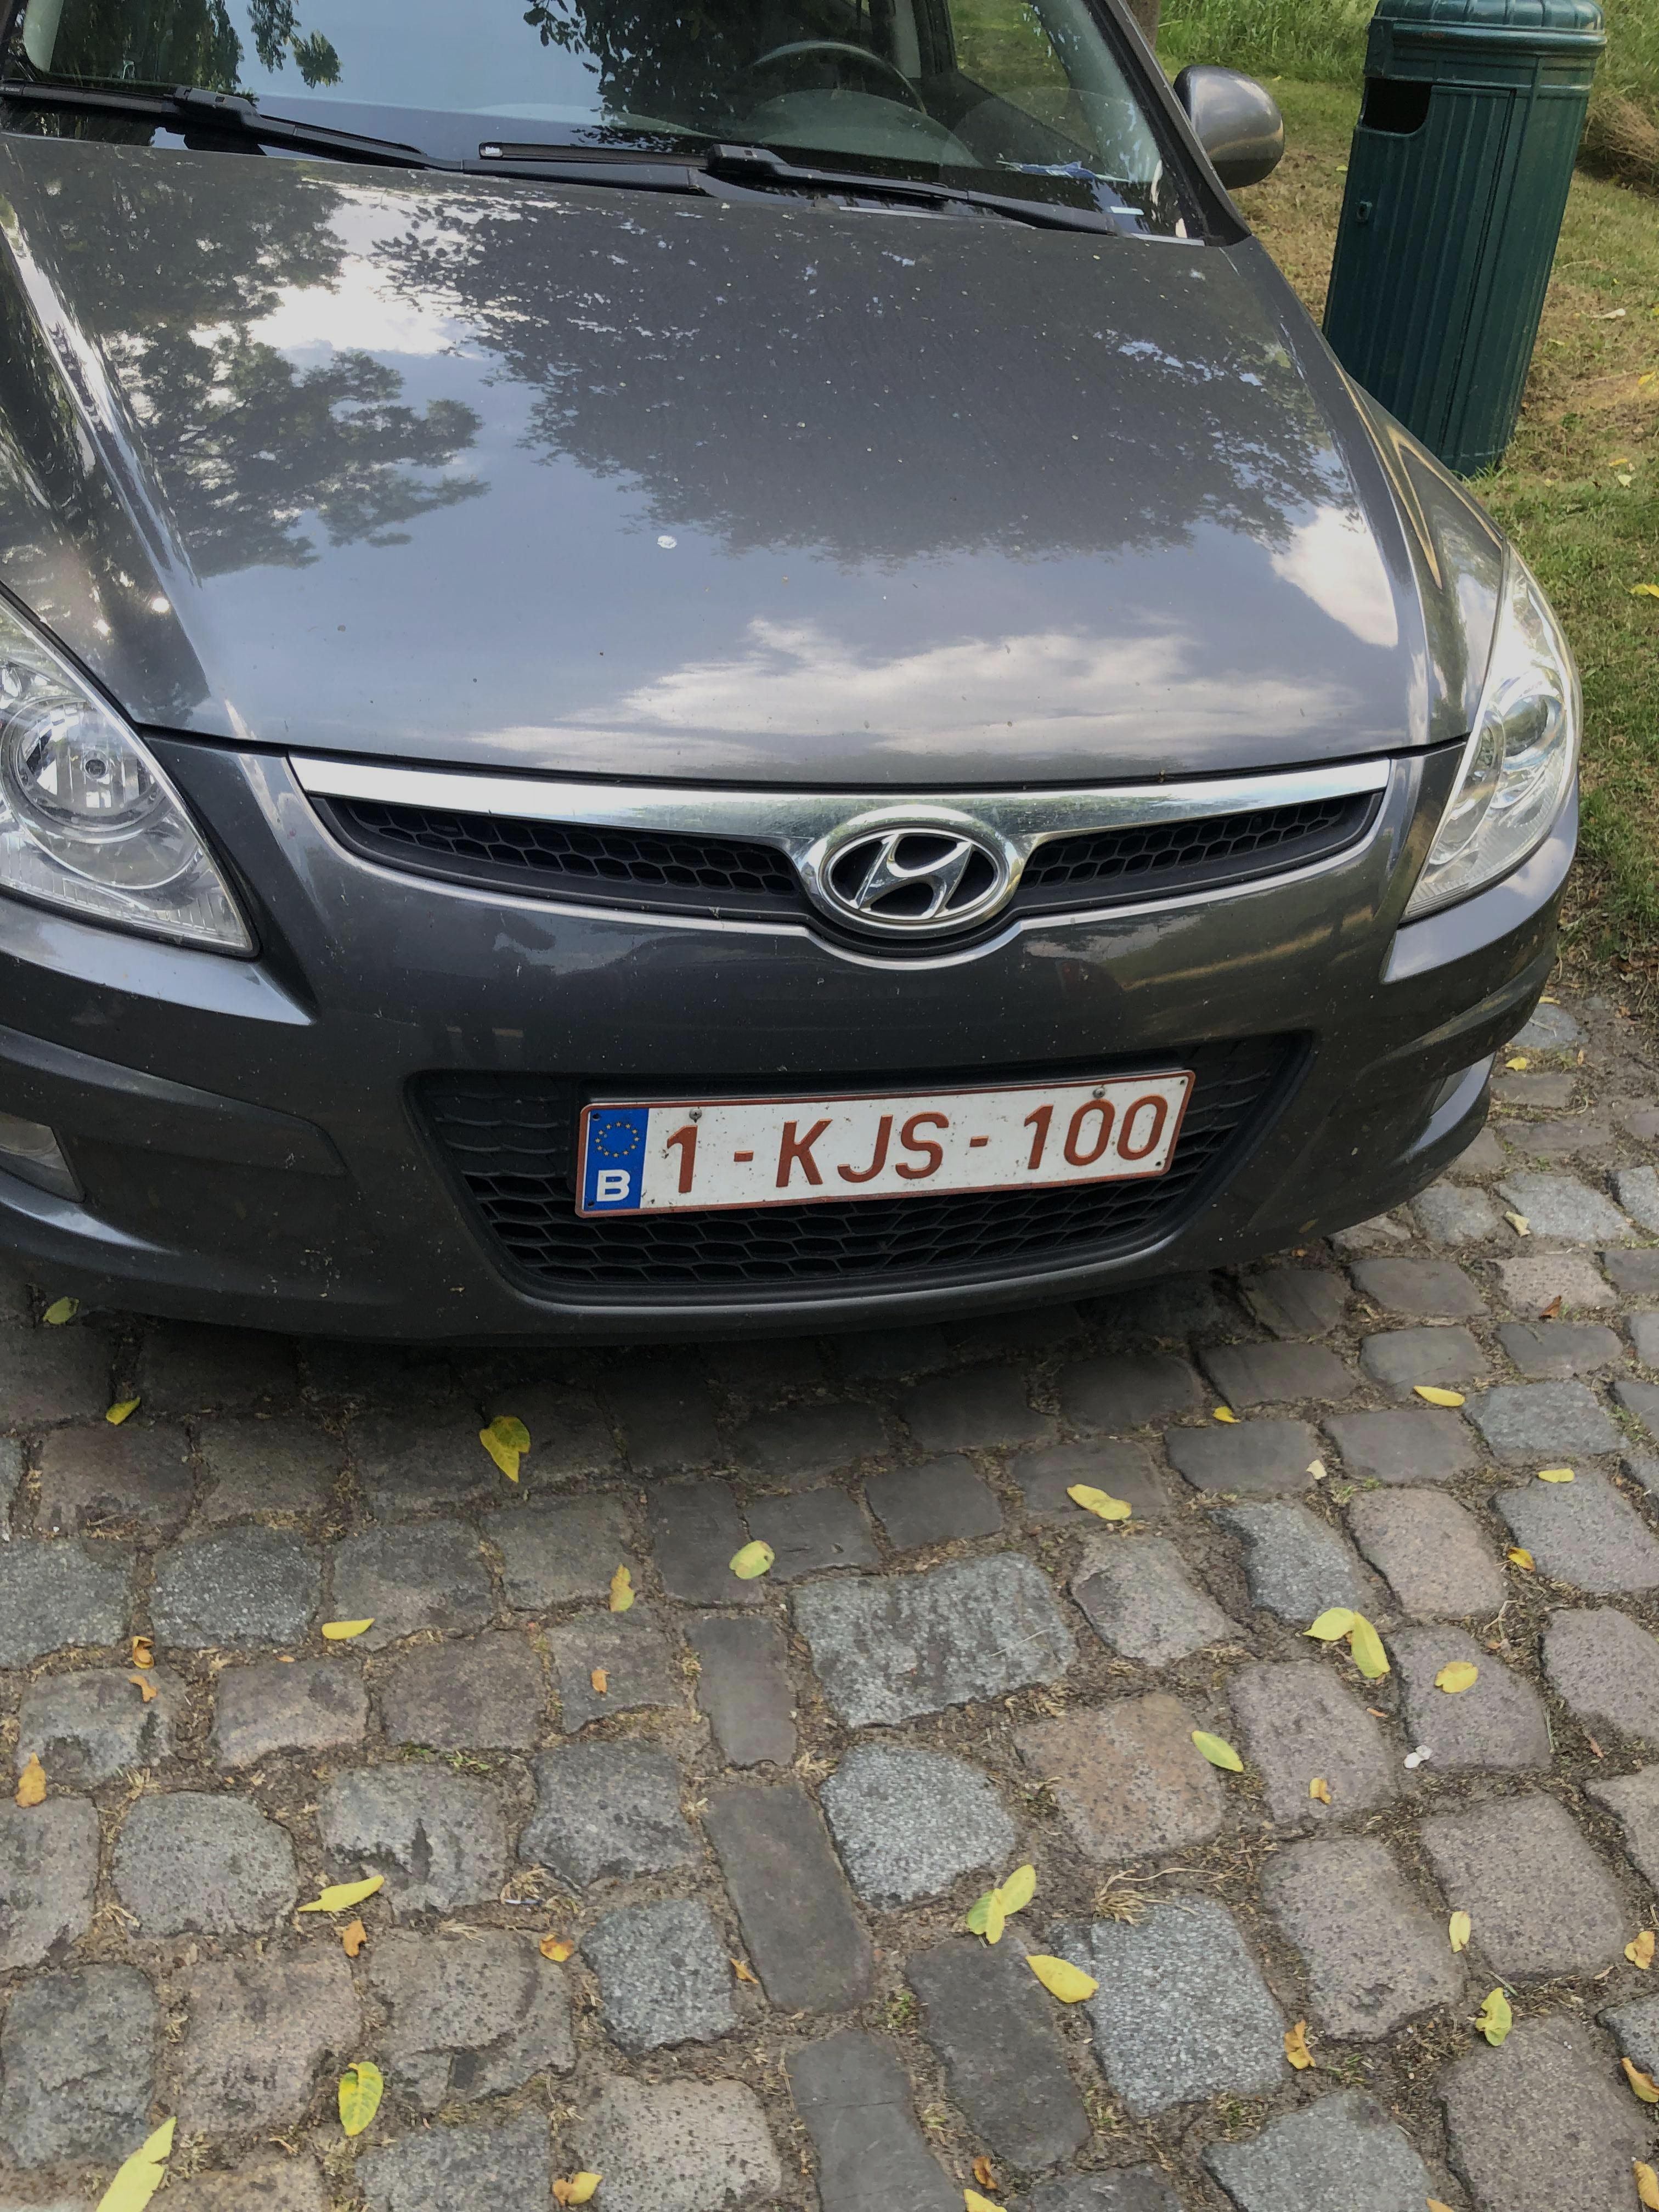plate: (533, 1064, 1211, 1242)
